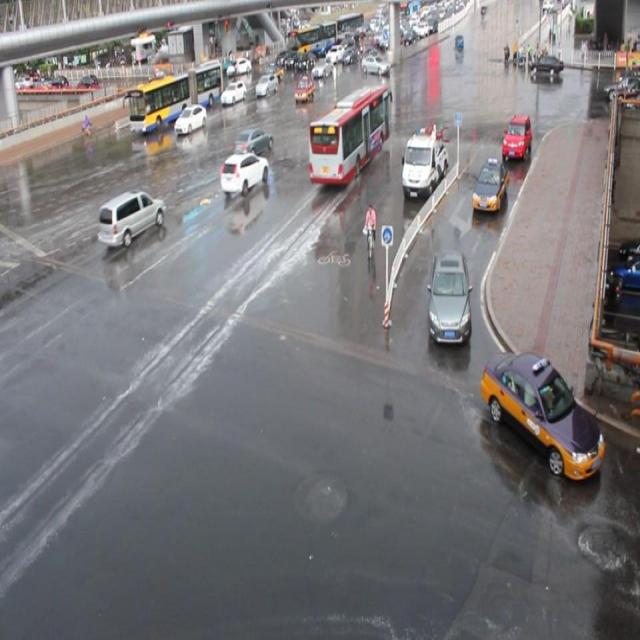bus: (401, 128, 447, 198)
car: (479, 348, 603, 479), (426, 250, 471, 344), (98, 188, 165, 248), (220, 151, 268, 195), (471, 158, 508, 212), (500, 113, 531, 161), (232, 127, 274, 156), (174, 104, 207, 136), (152, 95, 178, 124), (221, 80, 246, 106), (293, 77, 315, 102), (255, 74, 278, 97)
van: (308, 82, 390, 184), (127, 58, 222, 134)
